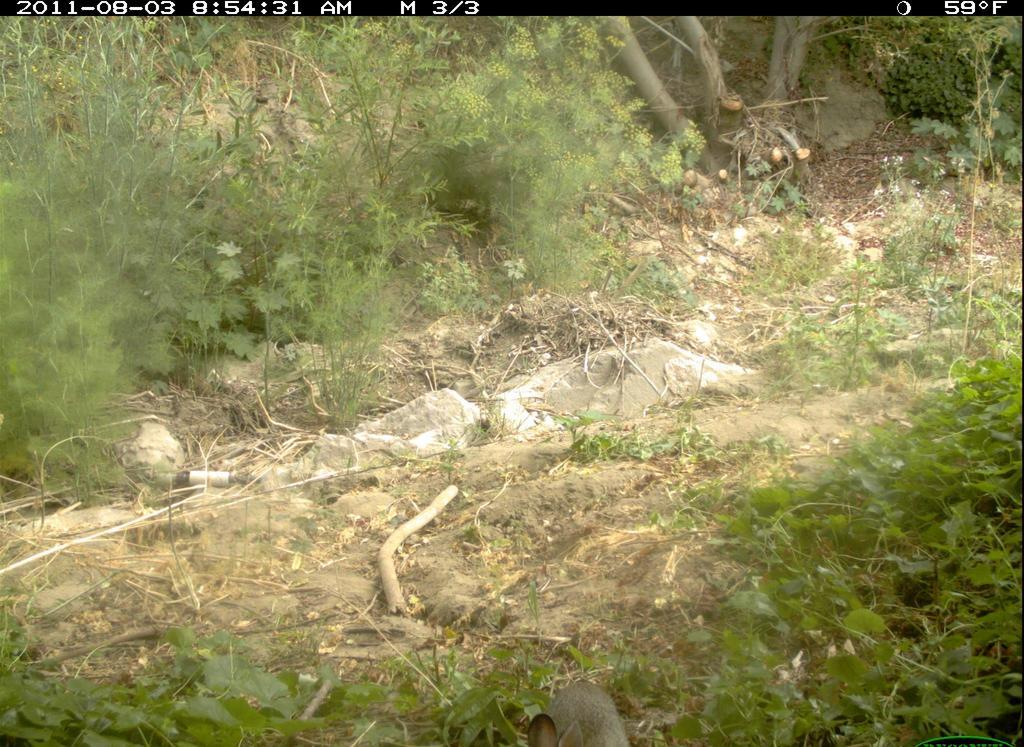rabbit: (520, 674, 642, 747)
